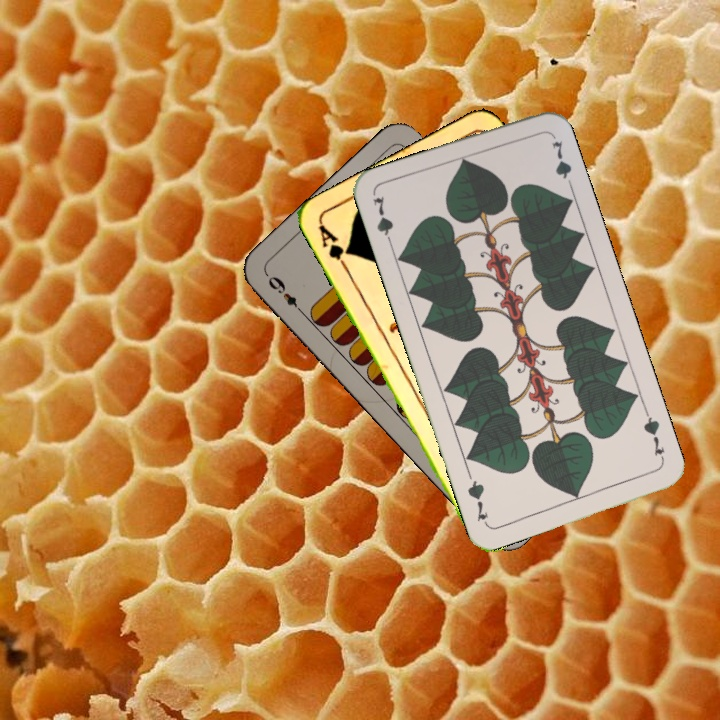E9: (262, 270, 307, 318)
G7: (639, 407, 668, 465), (369, 192, 396, 250)
GA: (314, 220, 353, 275)
